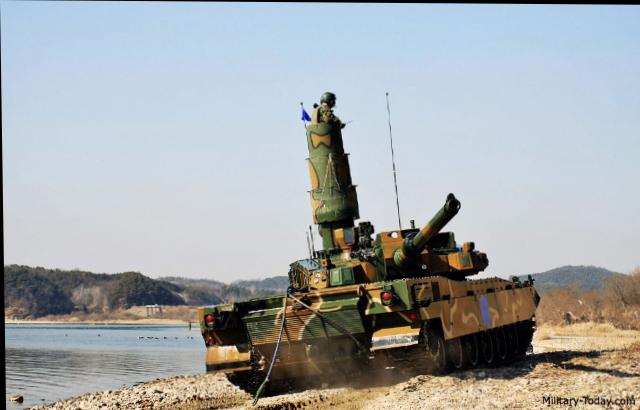tank: (199, 246, 536, 386)
